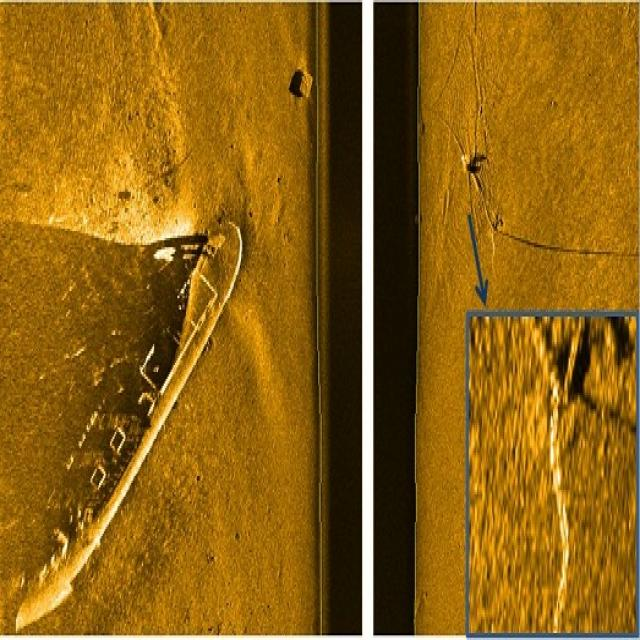ship: (16, 210, 247, 631)
